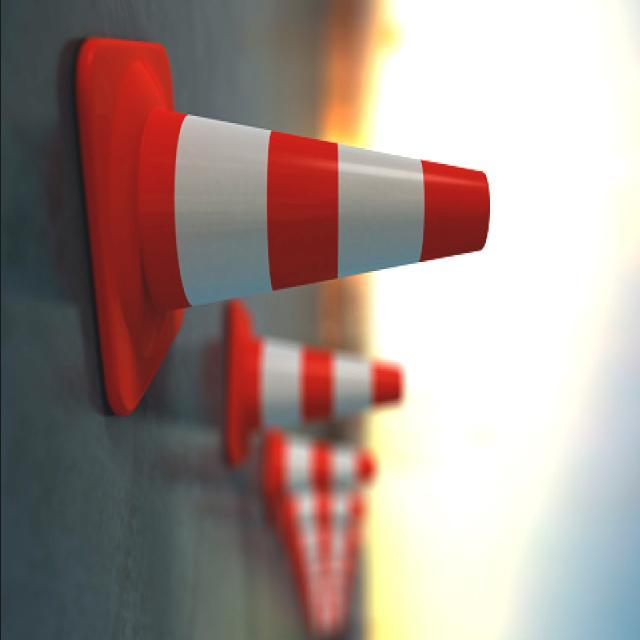traffic cone: (75, 36, 492, 419), (222, 295, 406, 640)
